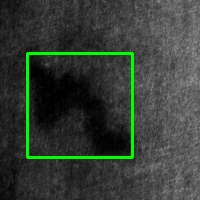patches: (27, 53, 132, 157)
